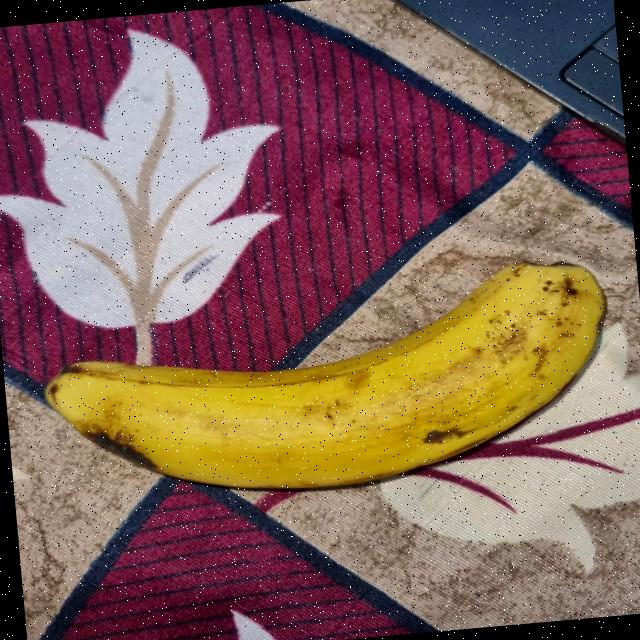Overripe: (35, 250, 632, 512)
